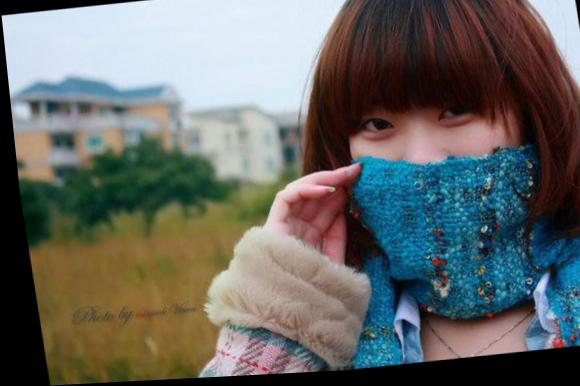WRONG: (331, 65, 544, 282)
